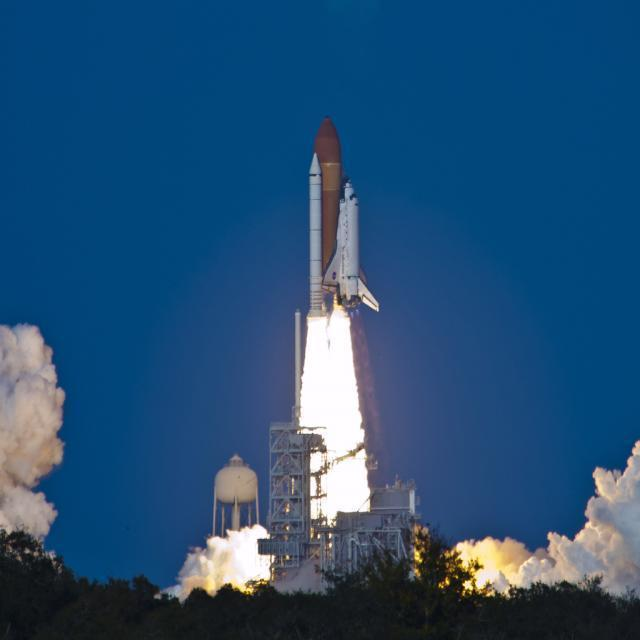missile: (302, 117, 379, 323)
